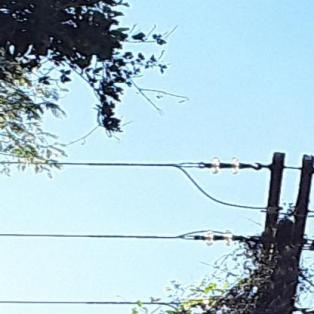Poste: (193, 210, 305, 314)
